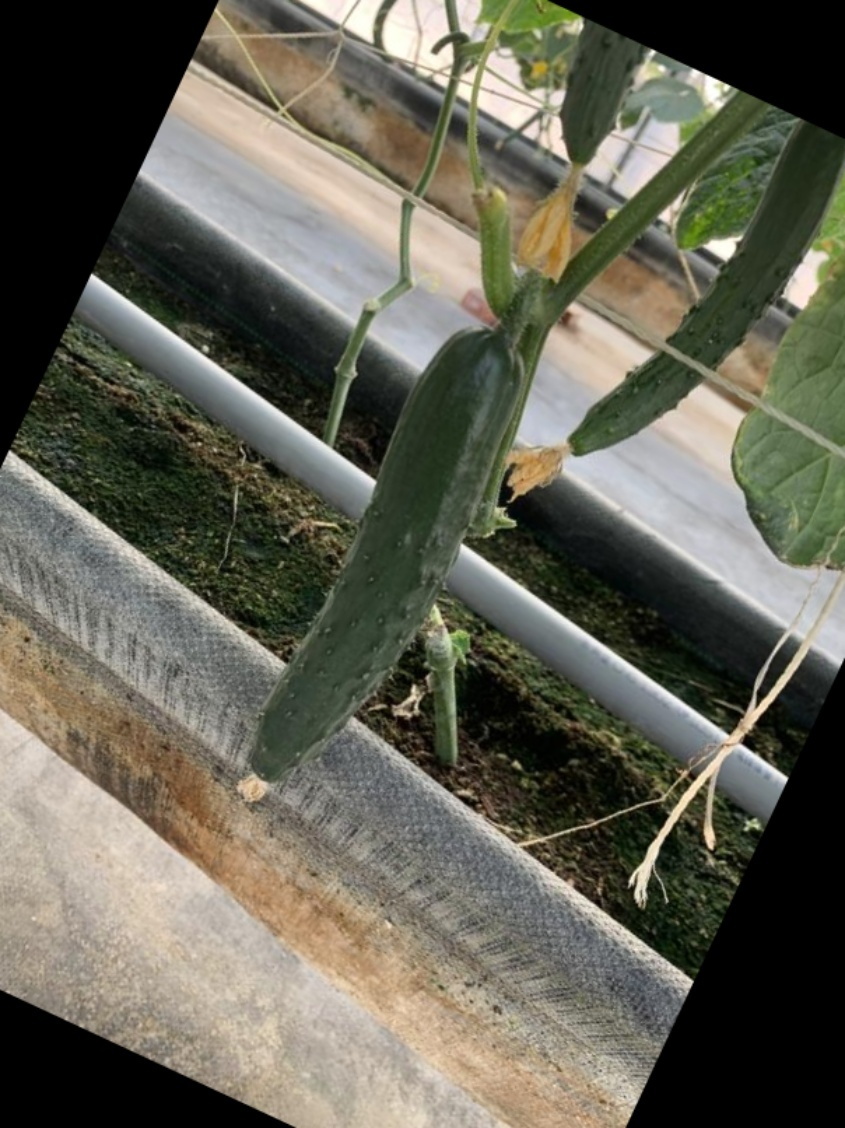mature: (559, 122, 841, 456)
